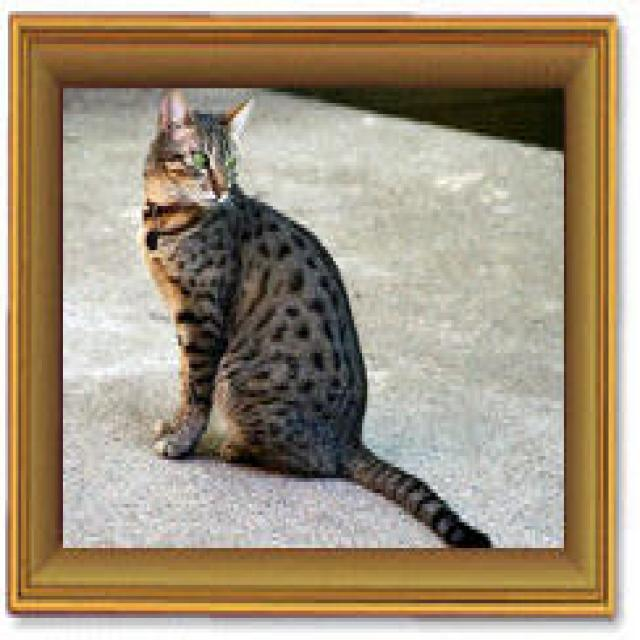Egyptian_Mau: (142, 88, 257, 263)
